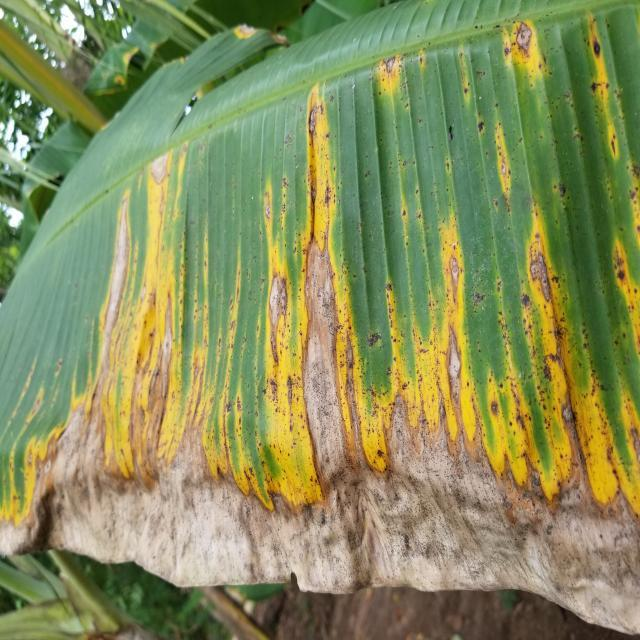Early_rust: (3, 0, 640, 629)
